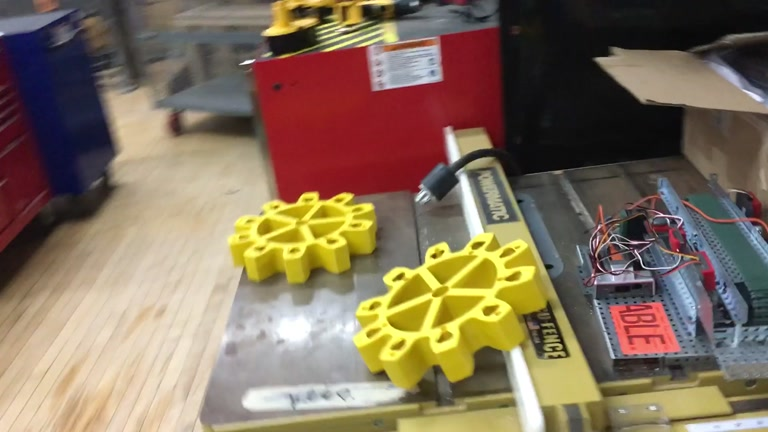gear: (353, 231, 549, 389), (228, 189, 377, 285)
